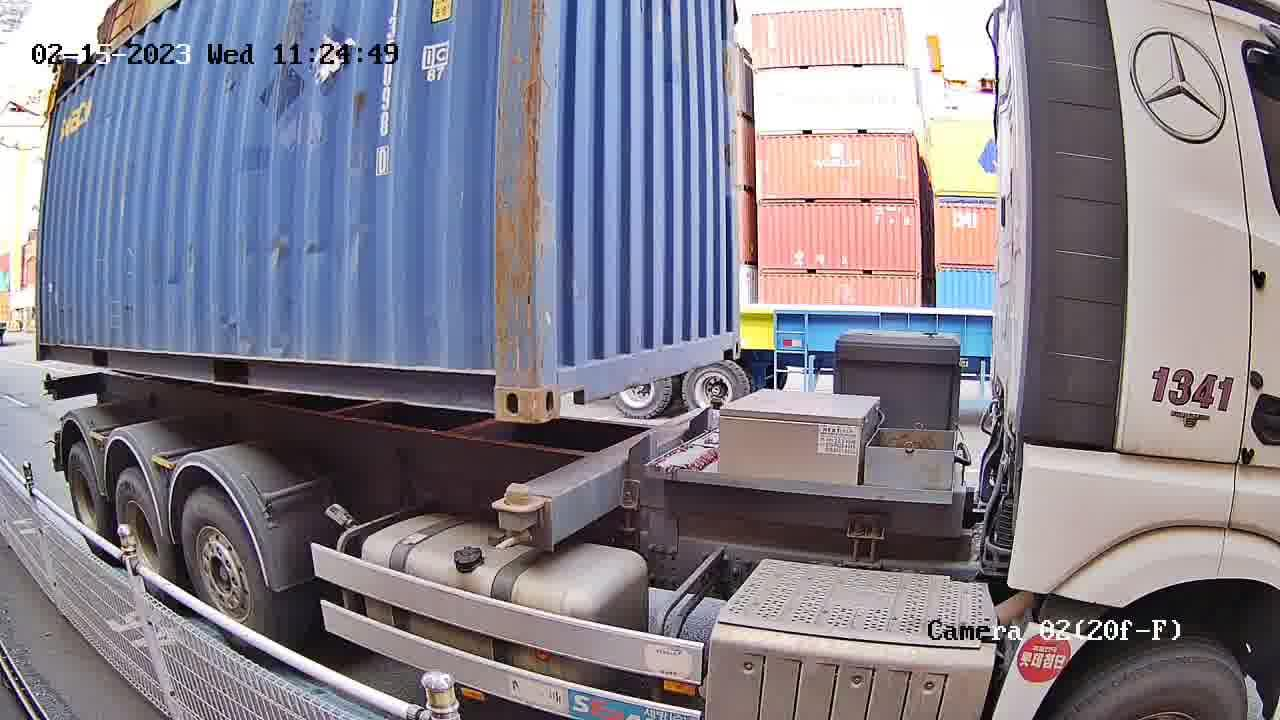Chassis: (525, 404, 727, 545)
Cone: (492, 483, 553, 549)
Hole_L: (538, 325, 618, 421)
Hole_R: (436, 333, 541, 417), (699, 311, 743, 369)
Tire: (1054, 646, 1249, 719), (179, 494, 268, 633), (117, 471, 170, 581), (66, 450, 108, 536)
